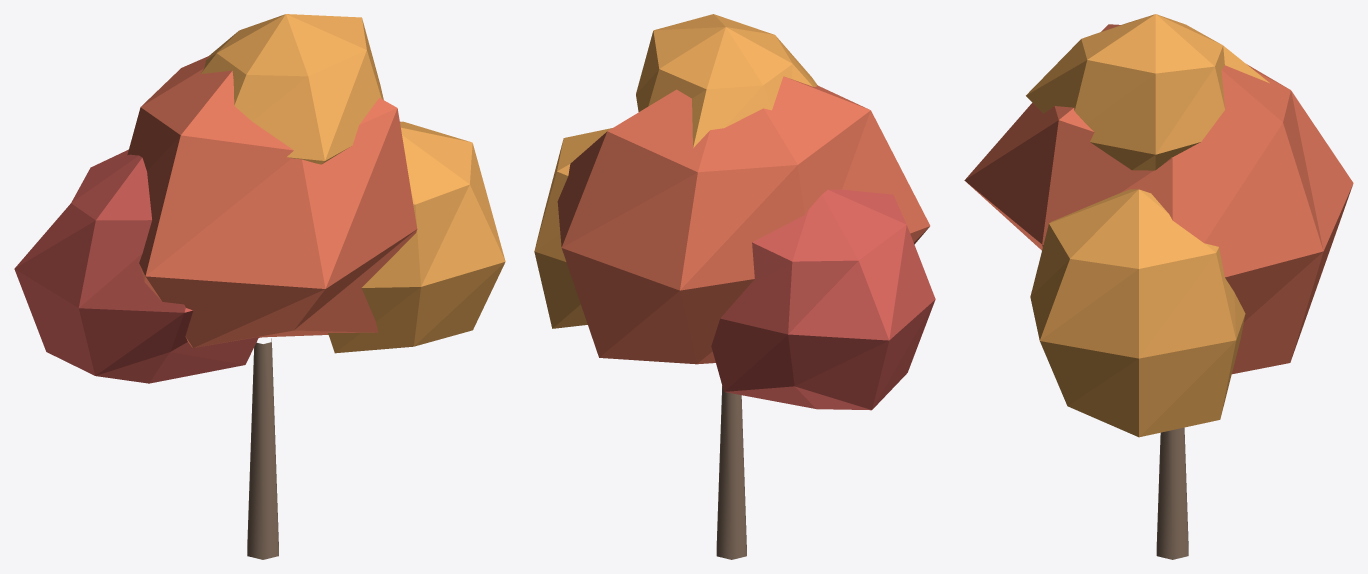
Rendered from tree_maple.glb.
3 views of the same model, side by side, from view 1: azimuth 30°, elevation 25°; view 2: azimuth 150°, elevation 25°; view 3: azimuth 270°, elevation 25° (orthographic). The views are drawn at different scales.
Parts seen in each view (by area): view 1: tree_maple; view 2: tree_maple; view 3: tree_maple.
Part boxes in pixels (bbox=[...]): tree_maple: bbox=[14, 14, 505, 559]; tree_maple: bbox=[534, 14, 935, 559]; tree_maple: bbox=[964, 14, 1353, 559].
Bounding box in the file's own units: 5.79 × 7.13 × 4.62.
